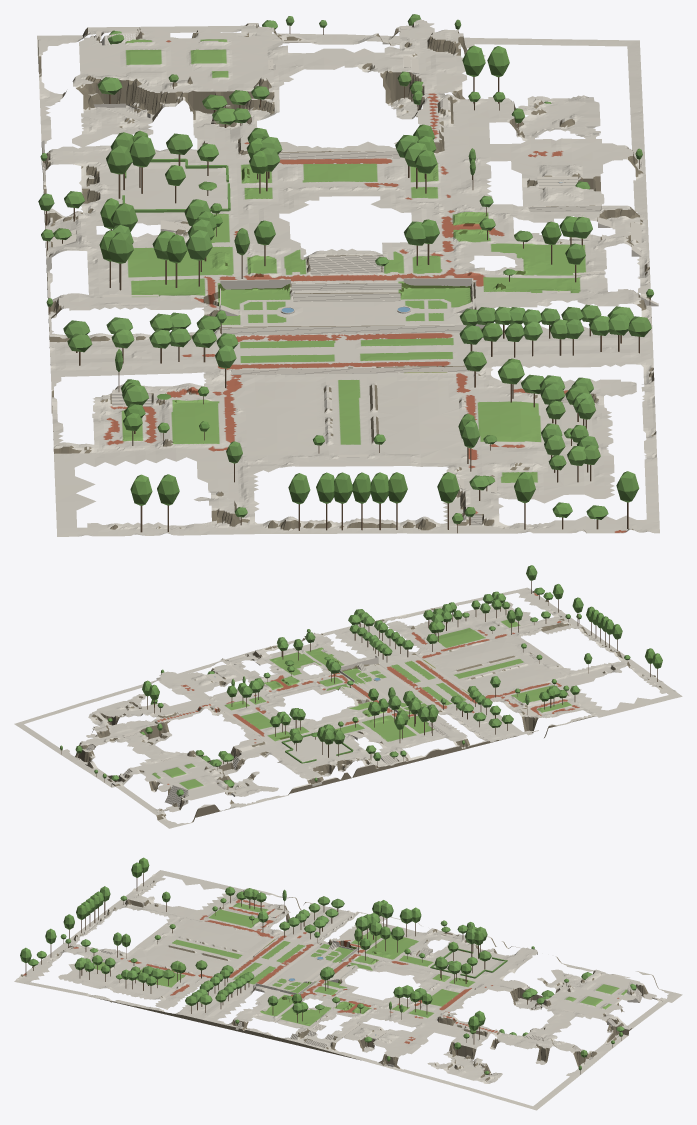
File: columbia-avery.detail.glb
3 renders of one model, top to bottom at view 1: azimuth 30°, elevation 25°; view 2: azimuth 150°, elevation 25°; view 3: azimuth 270°, elevation 25°, orthographic. The views are drawn at different scales.
Parts seen in each view (by area): view 1: Columbia University, Avery Hall; view 2: Columbia University, Avery Hall; view 3: Columbia University, Avery Hall.
Boxes of the visible parts, box(x1,y1,x2,y2) form: Columbia University, Avery Hall: box(37, 14, 659, 536); Columbia University, Avery Hall: box(14, 565, 682, 828); Columbia University, Avery Hall: box(14, 857, 682, 1110).
Size of the model in its own units: 435 by 42.07 by 526.
Materials: 4 (1 with a texture image).
